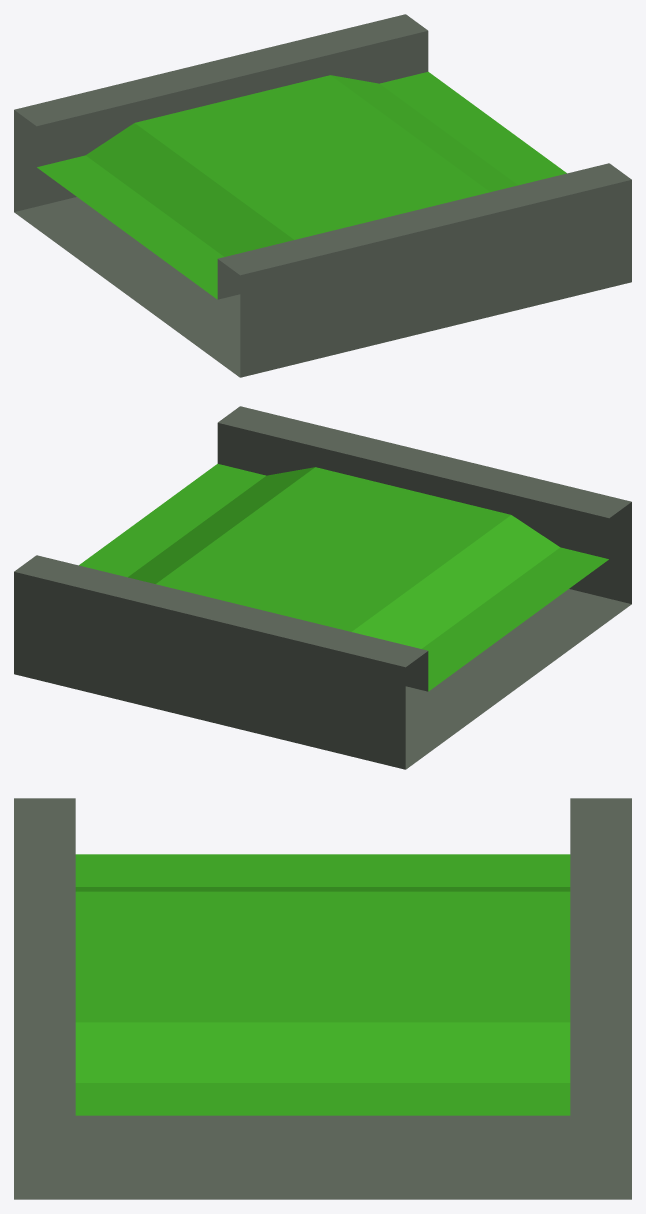
File: StraightBumpUp.fbx
3 views of the same model, one above another, from view 1: azimuth 30°, elevation 25°; view 2: azimuth 150°, elevation 25°; view 3: azimuth 270°, elevation 25° (orthographic). The views are drawn at different scales.
Parts seen in each view (by area): view 1: Straight.002; view 2: Straight.002; view 3: Straight.002.
Part boxes in pixels (x1=…): Straight.002: x1=14, y1=14, x2=631, y2=377; Straight.002: x1=14, y1=406, x2=631, y2=769; Straight.002: x1=14, y1=798, x2=631, y2=1199.
Size of the model in its own units: 200 by 50 by 200.
